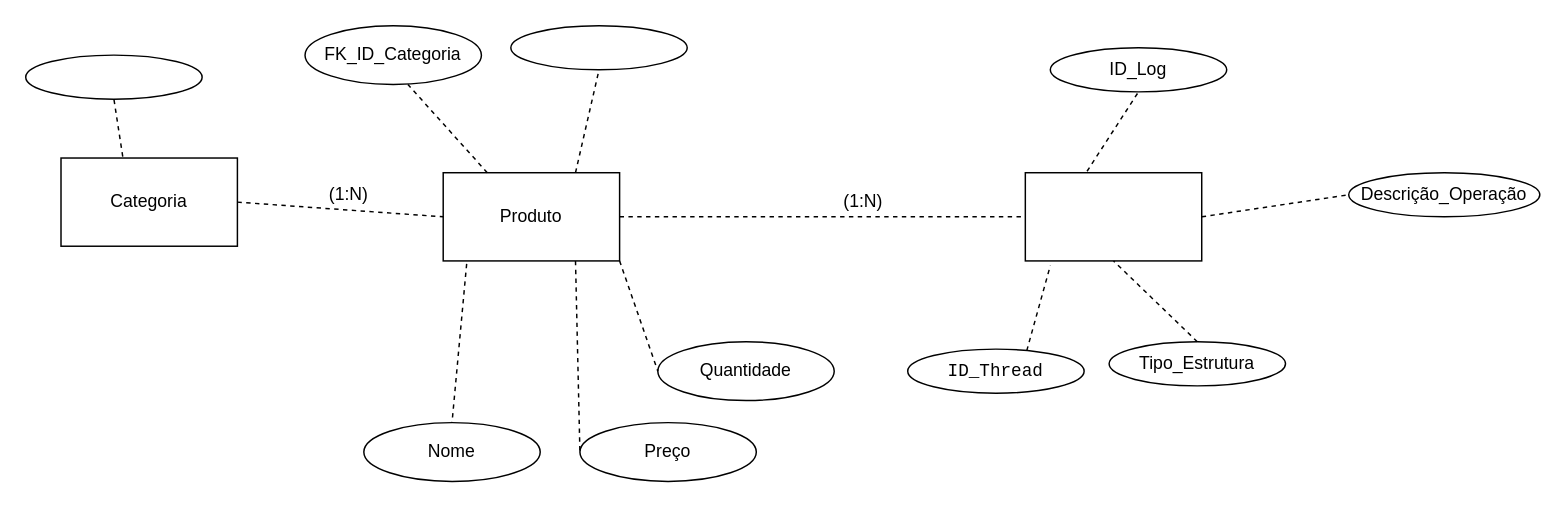
The diagram is 1566 pixels wide and 507 high, and some of its shapes have lost their labels. The shapes that lost their labels are listed below. From the top down, each one's box as (x1, y1, x2, y2) in pixels, then its label:
(509, 24, 687, 70): ID_produito
(24, 54, 202, 99): Id_categoria
(1024, 171, 1202, 261): Histórico
